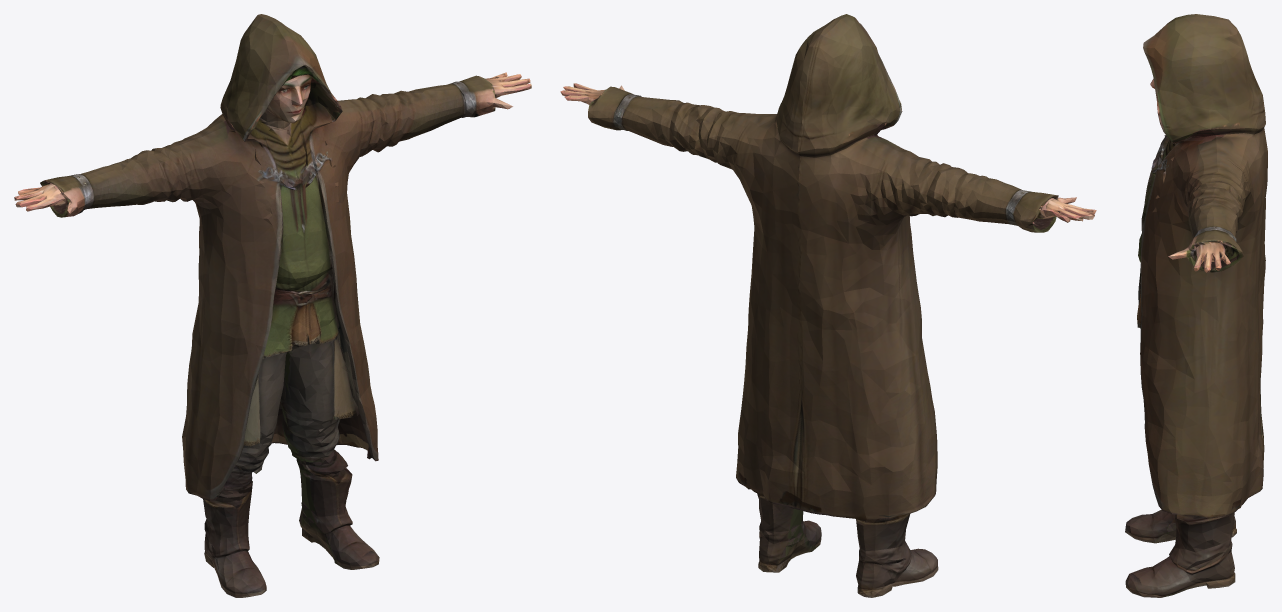
Rendered from Medieval_style_elf_NP_0607161146_texture.fbx.
3 views of the same model, side by side, from view 1: azimuth 30°, elevation 25°; view 2: azimuth 150°, elevation 25°; view 3: azimuth 270°, elevation 25° (orthographic). The views are drawn at different scales.
Visible parts, largest first — view 1: temp; view 2: temp; view 3: temp.
Boxes of the visible parts, x1,y1,x2,y2 form: temp: (14,14,531,597); temp: (560,14,1096,597); temp: (1125,14,1267,597).
Size of the model in its own units: 200 by 200 by 47.54.
Materials: 1 (1 with a texture image).
